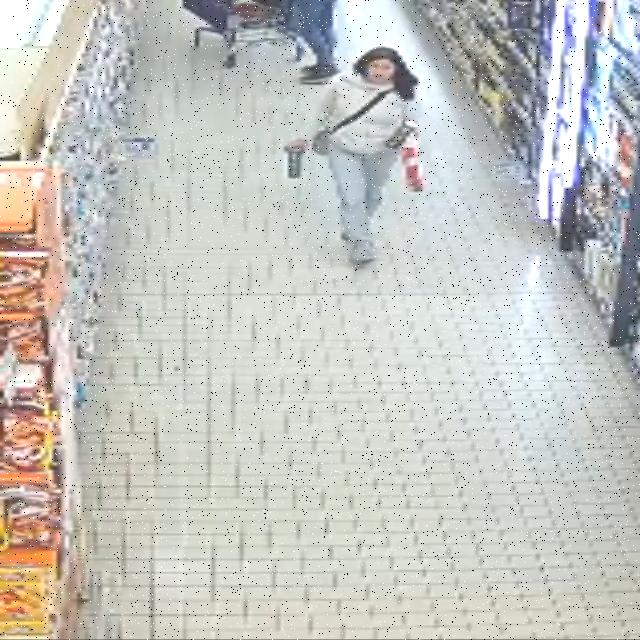article: (399, 145, 426, 193), (387, 118, 416, 149), (288, 149, 300, 179)
bags: (312, 90, 392, 155)
hands: (287, 139, 309, 151)
person: (315, 47, 419, 264)
